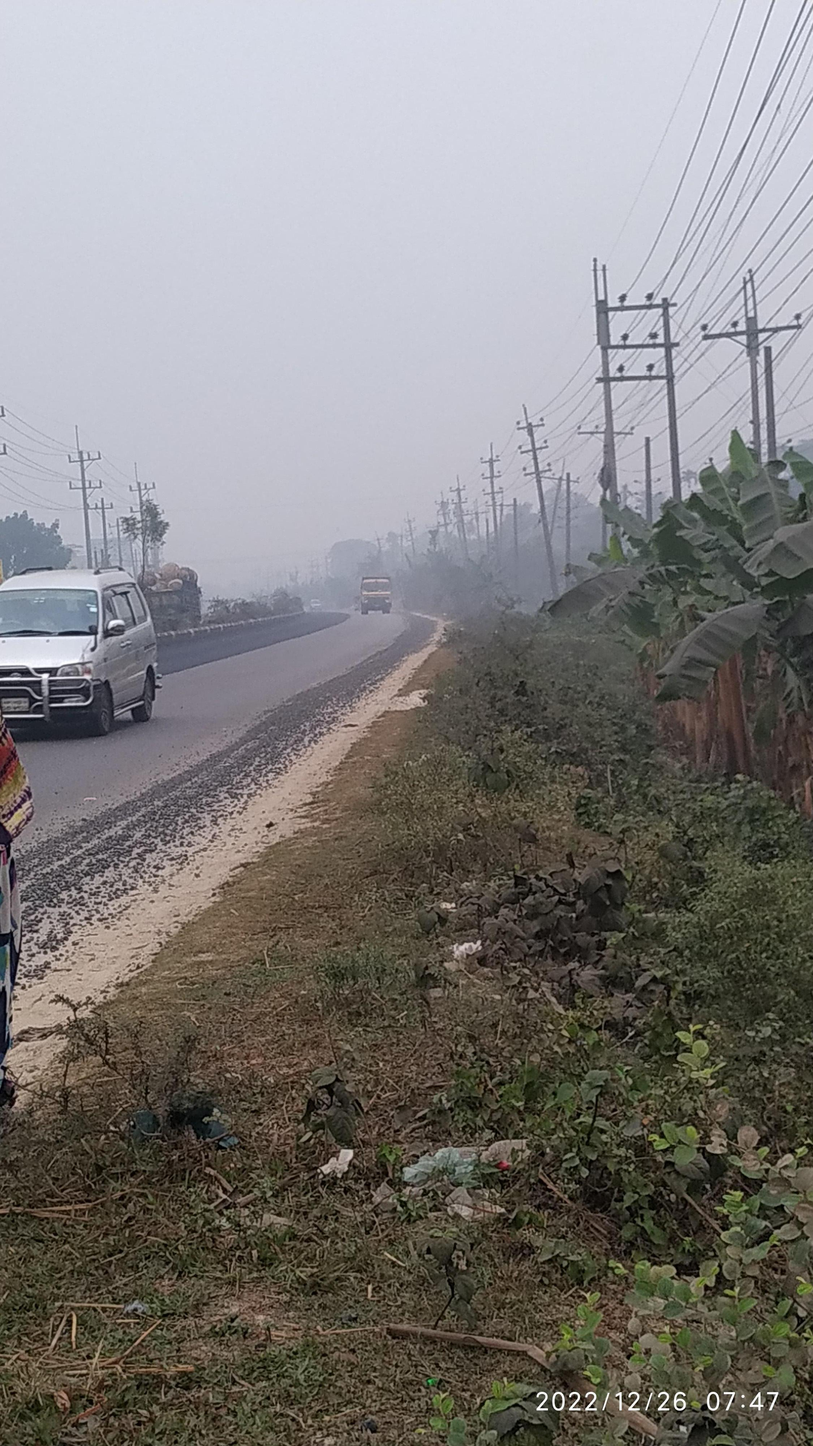Car: (0, 554, 185, 770)
Truck: (352, 563, 409, 638)
